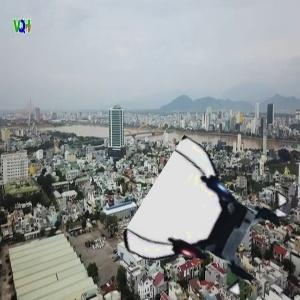drone: (143, 153, 285, 295)
